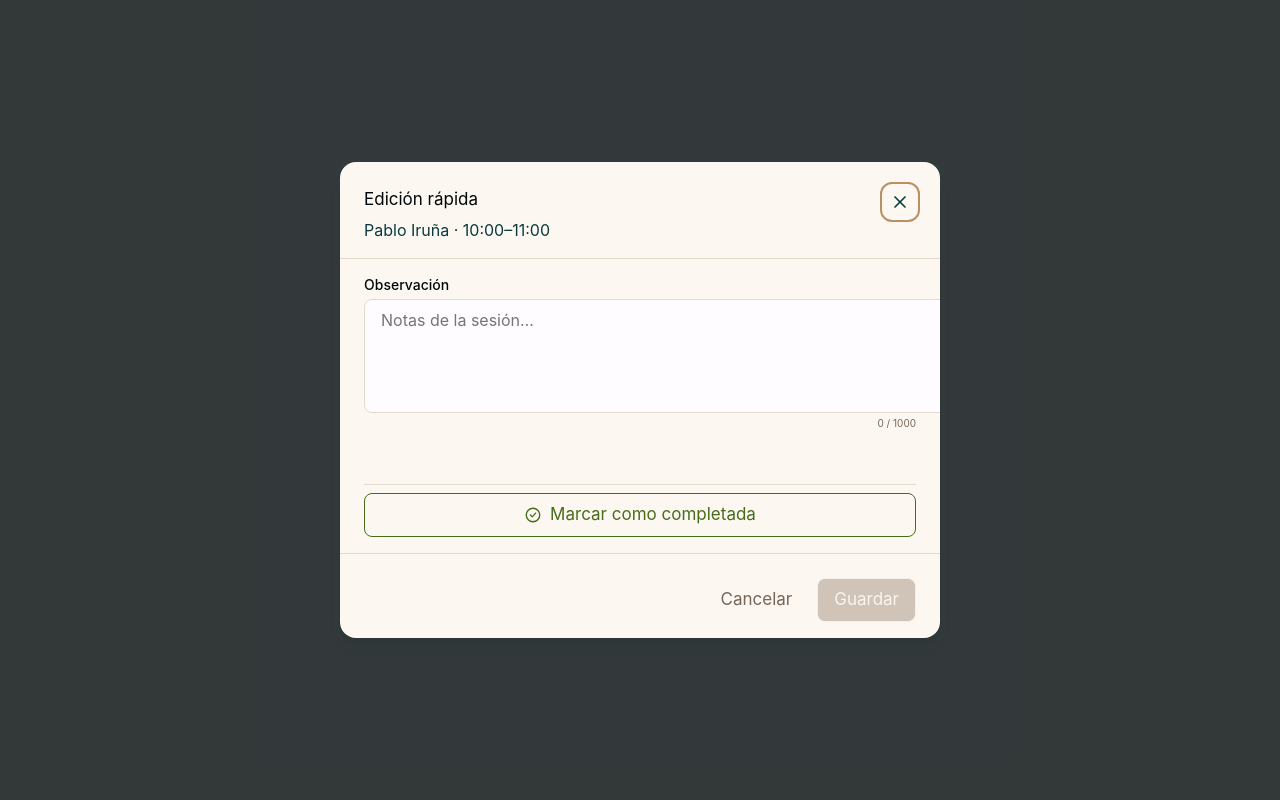
CitaQuickEditModal — Save gating › Save enables once the note is edited
Expected: the button "Guardar" is disabled, [817,578,916,622]
Type "x" into the text box labelled "Observación" at (657, 356), box [364,299,950,413]
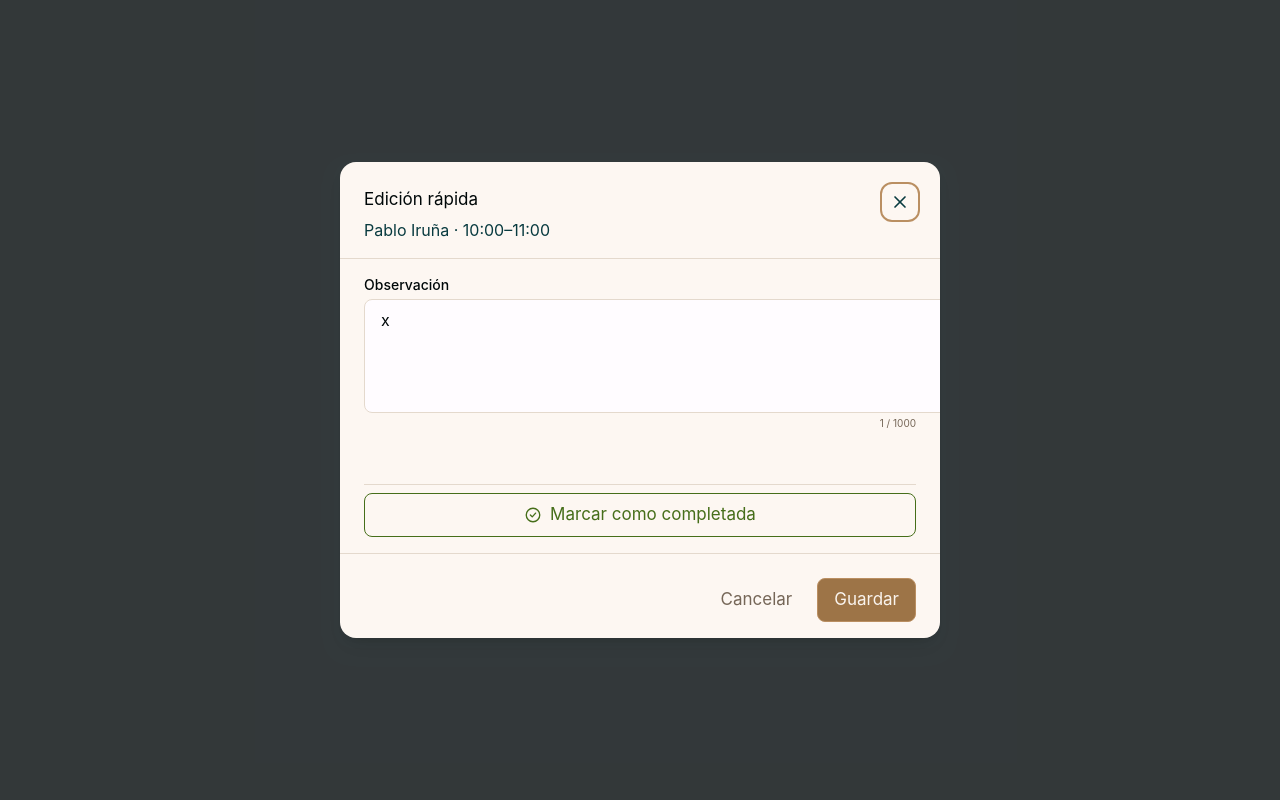
Now the button "Guardar" is enabled, box [817,578,916,622]
